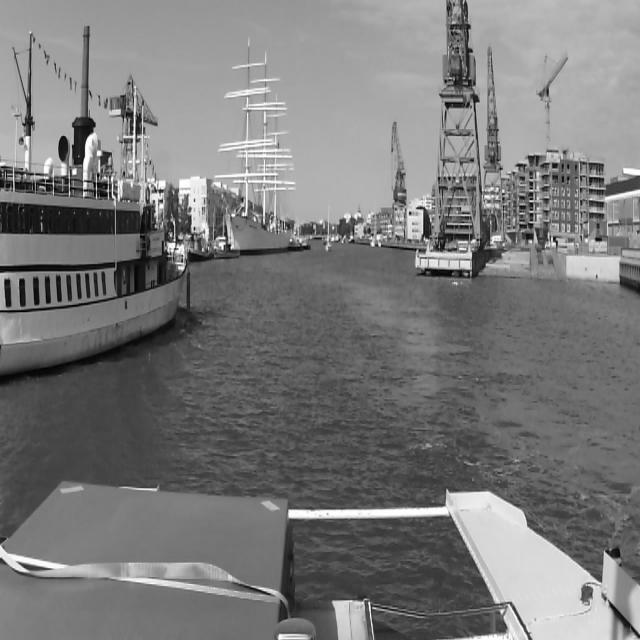ship: (0, 29, 191, 373), (225, 39, 291, 253), (371, 210, 381, 247), (326, 204, 332, 252)
